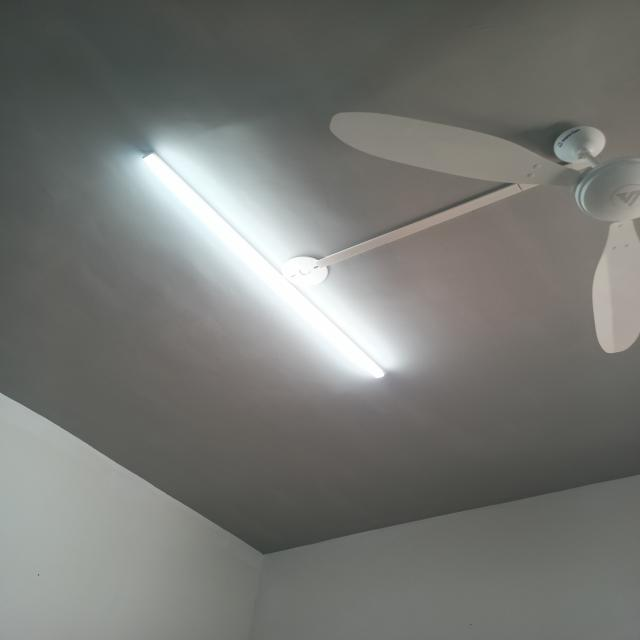light_on: (121, 138, 407, 387)
